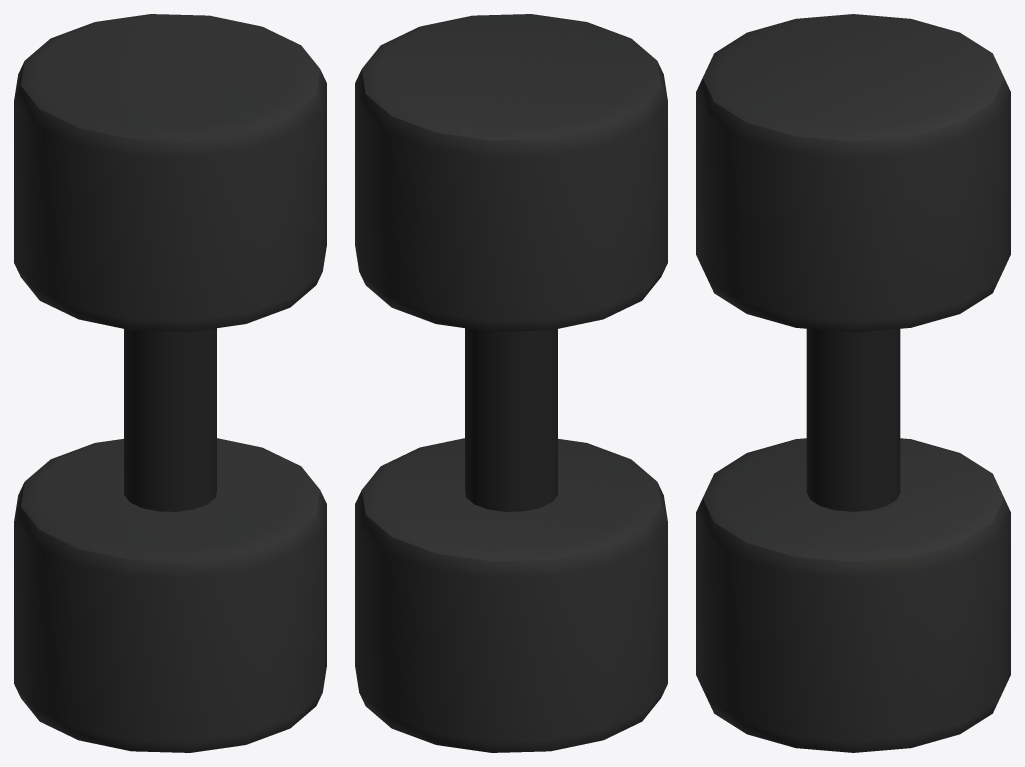
The model's file is dumbbell.fbx.
3 views of the same model, side by side, from view 1: azimuth 30°, elevation 25°; view 2: azimuth 150°, elevation 25°; view 3: azimuth 270°, elevation 25° (orthographic).
Parts seen in each view (by area): view 1: dumbbell; view 2: dumbbell; view 3: dumbbell.
Part boxes in pixels (box(x1,y1,x2,y2)): dumbbell: box(14, 14, 326, 752); dumbbell: box(355, 14, 667, 752); dumbbell: box(696, 14, 1010, 752).
Size of the model in its own units: 7.83 by 17.1 by 7.83.
